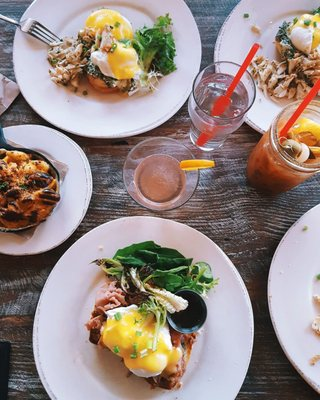curry: (132, 13, 177, 76)
pizza: (187, 62, 257, 152)
salad: (167, 290, 207, 335)
